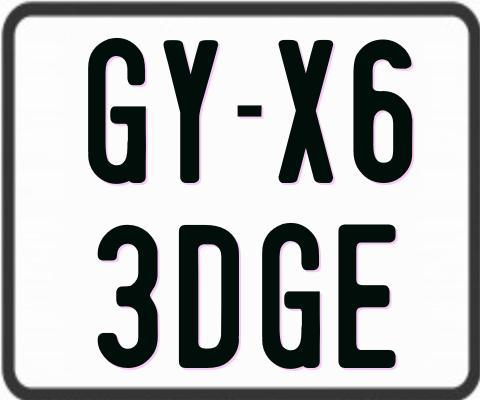3: (95, 224, 160, 373)
6: (351, 38, 416, 186)
D: (178, 225, 240, 369)
E: (337, 222, 395, 369)
G: (260, 221, 323, 368), (85, 37, 145, 186)
X: (278, 39, 332, 186)
Y: (164, 40, 221, 185)
